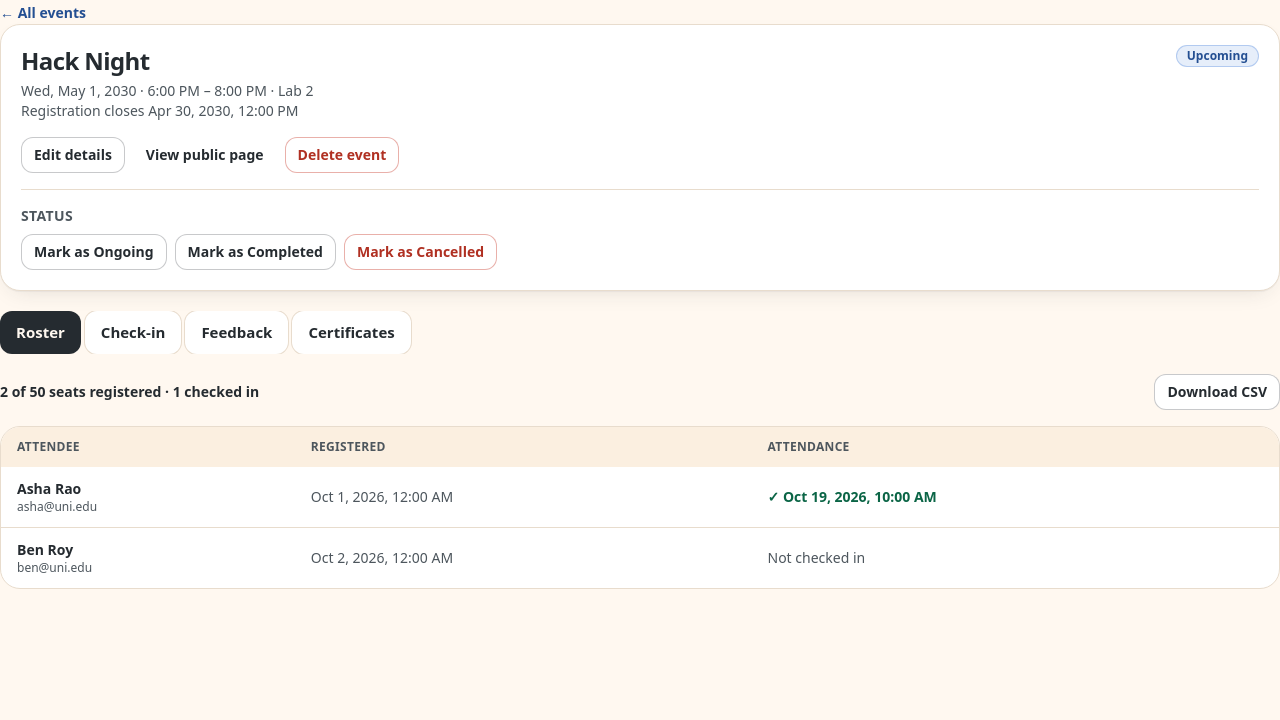
Test: Club event management › shows the backend error if the status change is rejected
The image size is (1280, 720).
What coordinates should you click on to do the following:
click the button "Mark as Ongoing"
I would click on:
 (94, 252)
Its box is [21,234,167,270].
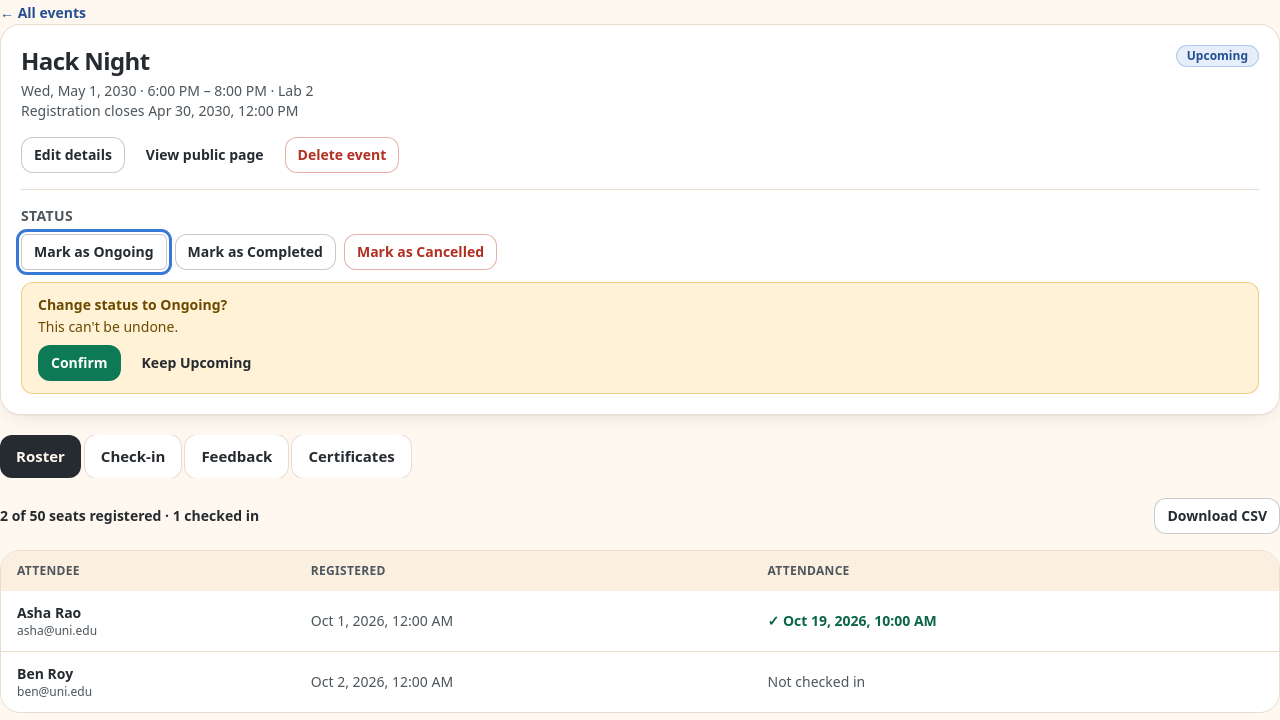
What coordinates should you click on to do the following:
click the button "Confirm"
I would click on:
 (79, 363)
Its box is [38,345,121,381].
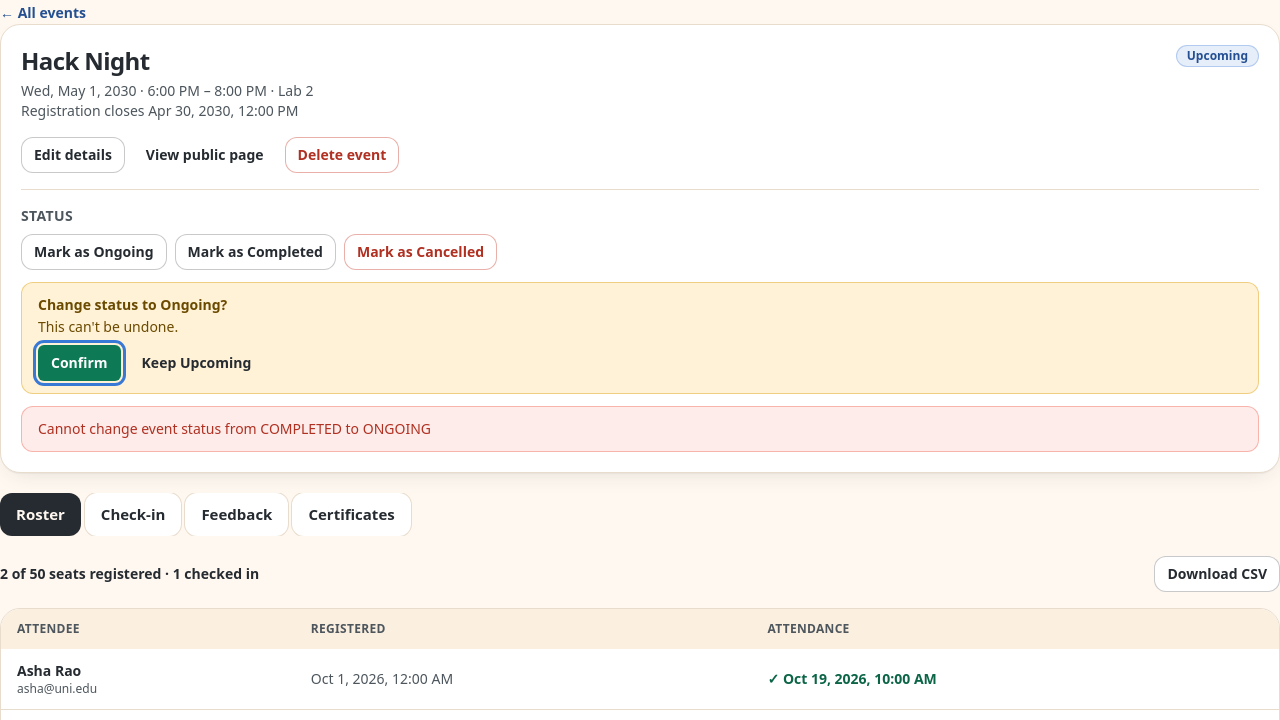
Expected: the text "Cannot change event status from COMPLETED to ONGOING" is shown, [38,419,431,438]
